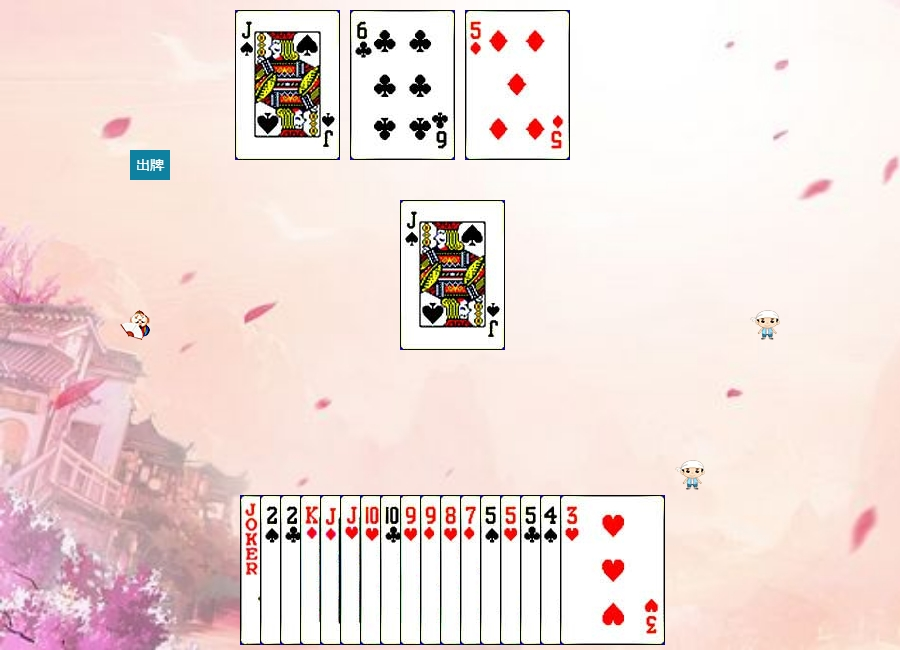10~2: (380, 495, 485, 645)
10~3: (360, 495, 465, 645)
11~1: (320, 495, 425, 645)
11~3: (340, 495, 445, 645)
11~4: (235, 10, 340, 160), (400, 200, 505, 350)
13~1: (300, 495, 405, 645)
15~2: (280, 495, 385, 645)
15~4: (260, 495, 365, 645)
18~4: (240, 495, 345, 645)
3~3: (560, 495, 665, 645)
4~4: (540, 495, 645, 645)
5~1: (465, 10, 570, 160)
5~2: (520, 495, 625, 645)
5~3: (500, 495, 605, 645)
5~4: (480, 495, 585, 645)
6~2: (350, 10, 455, 160)
7~1: (460, 495, 565, 645)
8~3: (440, 495, 545, 645)
9~1: (420, 495, 525, 645)
9~3: (400, 495, 505, 645)
